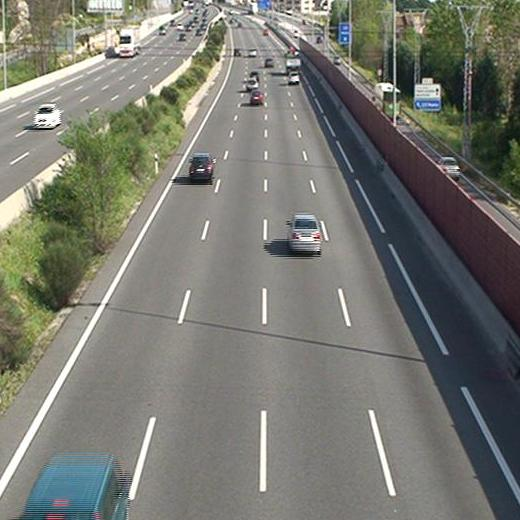car: (288, 216, 321, 251), (190, 155, 212, 179), (287, 73, 300, 85), (250, 91, 263, 103), (246, 78, 258, 90), (247, 47, 258, 58), (265, 58, 275, 69)
small-truck: (286, 50, 300, 71)
